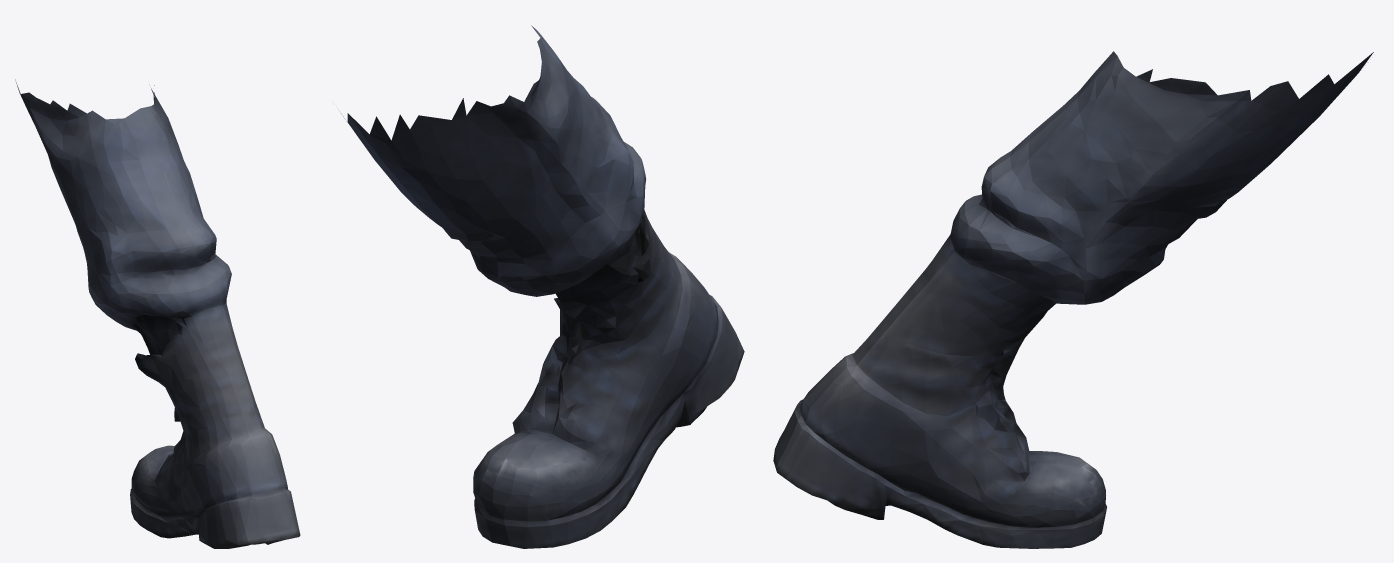
File: leg_l_enemy.glb
3 renders of one model, left to right at view 1: azimuth 30°, elevation 25°; view 2: azimuth 150°, elevation 25°; view 3: azimuth 270°, elevation 25°, orthographic. The views are drawn at different scales.
Visible parts, largest first — view 1: infantry.glb; view 2: infantry.glb; view 3: infantry.glb.
Part boxes in pixels (left/top/right/bottom): infantry.glb: left=15, top=79, right=300, bottom=548; infantry.glb: left=343, top=25, right=744, bottom=548; infantry.glb: left=773, top=51, right=1373, bottom=548.
Bounding box in the file's own units: 0.1061 × 0.3337 × 0.3776.
Materials: 1 (1 with a texture image).
